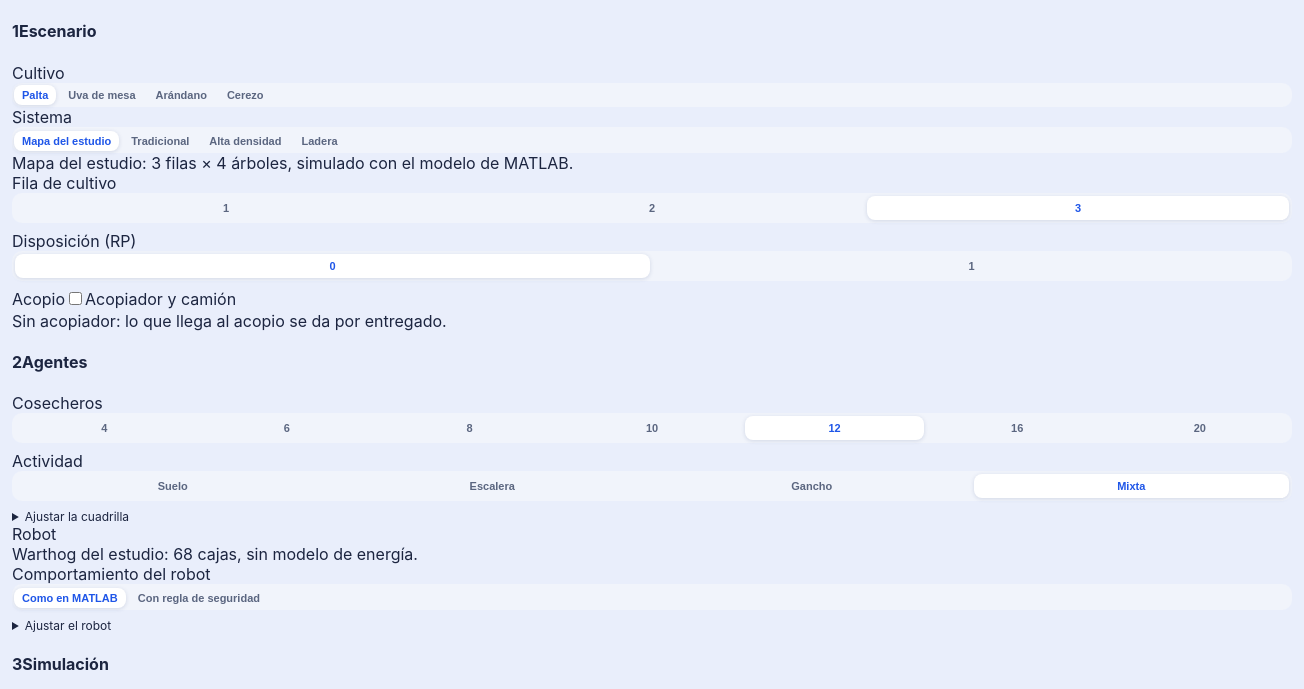
Test: SimSteps (panel izquierdo del Simulador) › H7: «Acopiador y camión» agrega el acopio con sus valores, se ajusta y se quita con restablecer el paso 1
Click the checkbox with test id "acopio-on" at {"x": 76, "y": 298}, box x1=69 y1=292 x2=82 y2=304
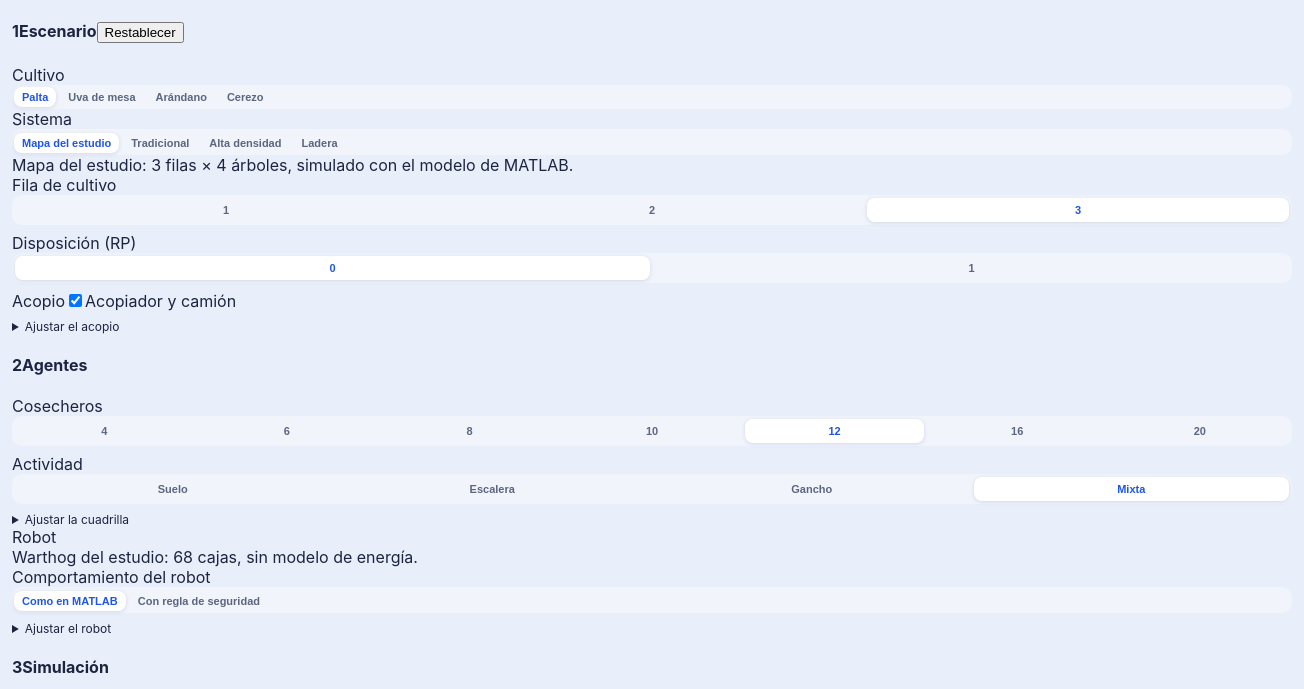
Click the heading "Ajustar el acopio" at {"x": 72, "y": 326}, box x1=25 y1=318 x2=120 y2=334
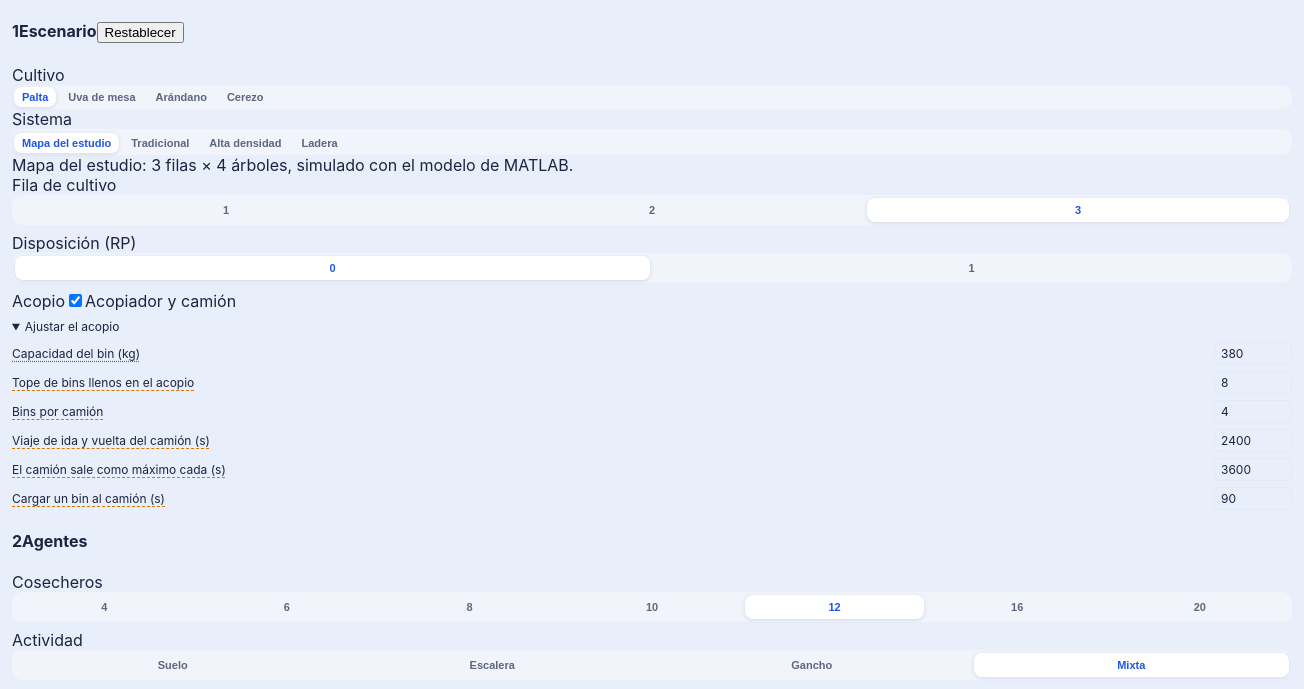
Replace the text in the number field labelled "Bins por camión" with "2.5" at {"x": 1253, "y": 411}, box x1=1214 y1=400 x2=1292 y2=422
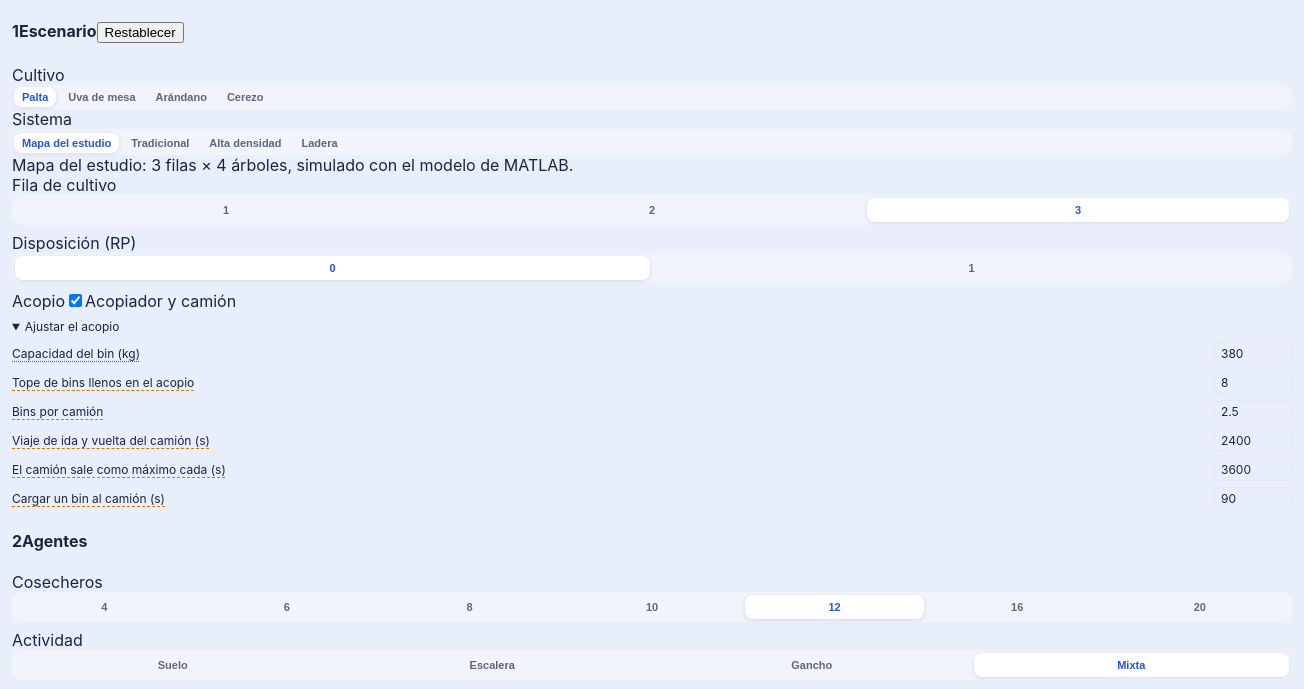
Replace the text in the number field labelled "Bins por camión" with "6" at {"x": 1253, "y": 411}, box x1=1214 y1=400 x2=1292 y2=422
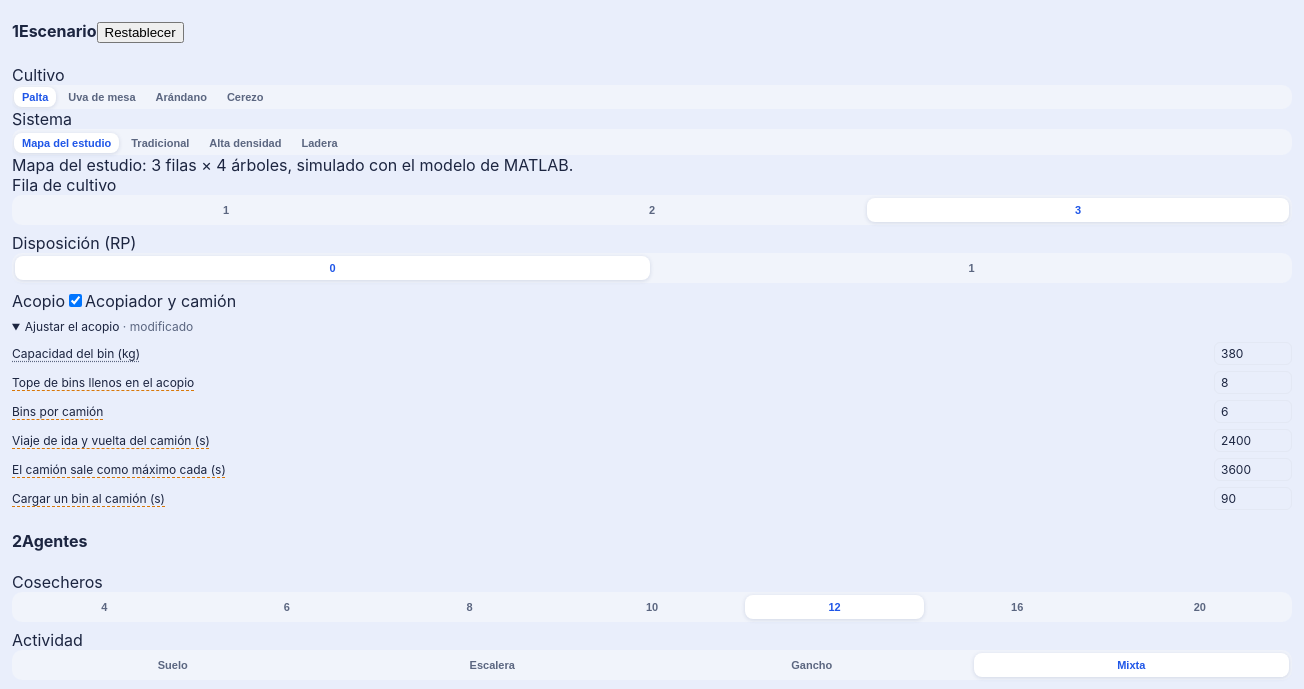
Click the button with test id "reset-1" at {"x": 140, "y": 33}, box x1=96 y1=22 x2=184 y2=43
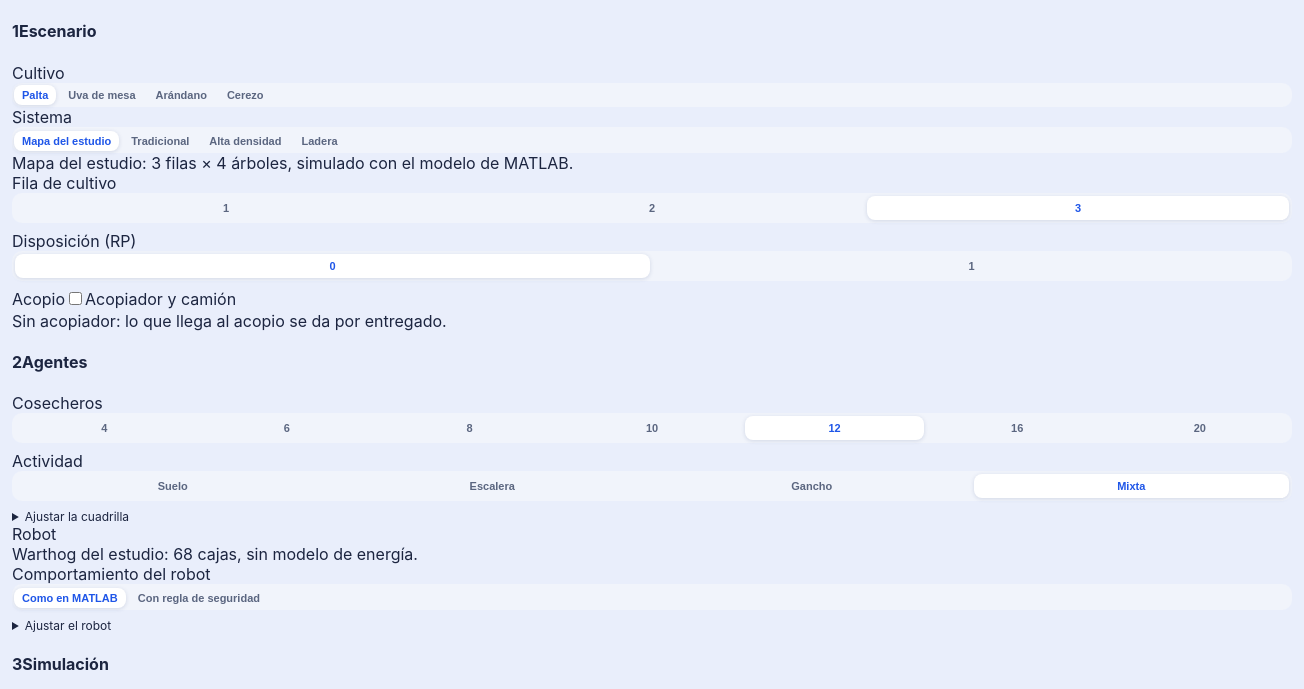
Check: the heading "Ajustar el acopio" is gone
